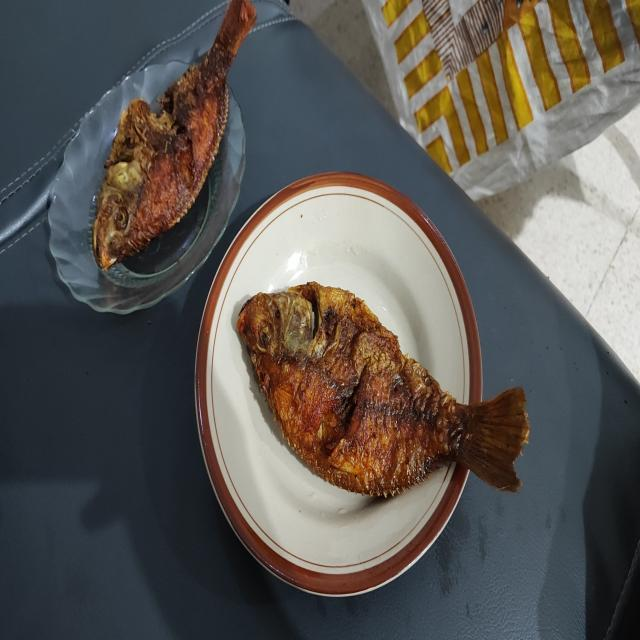ikan_mujair: (238, 282, 530, 496), (93, 0, 256, 270)
